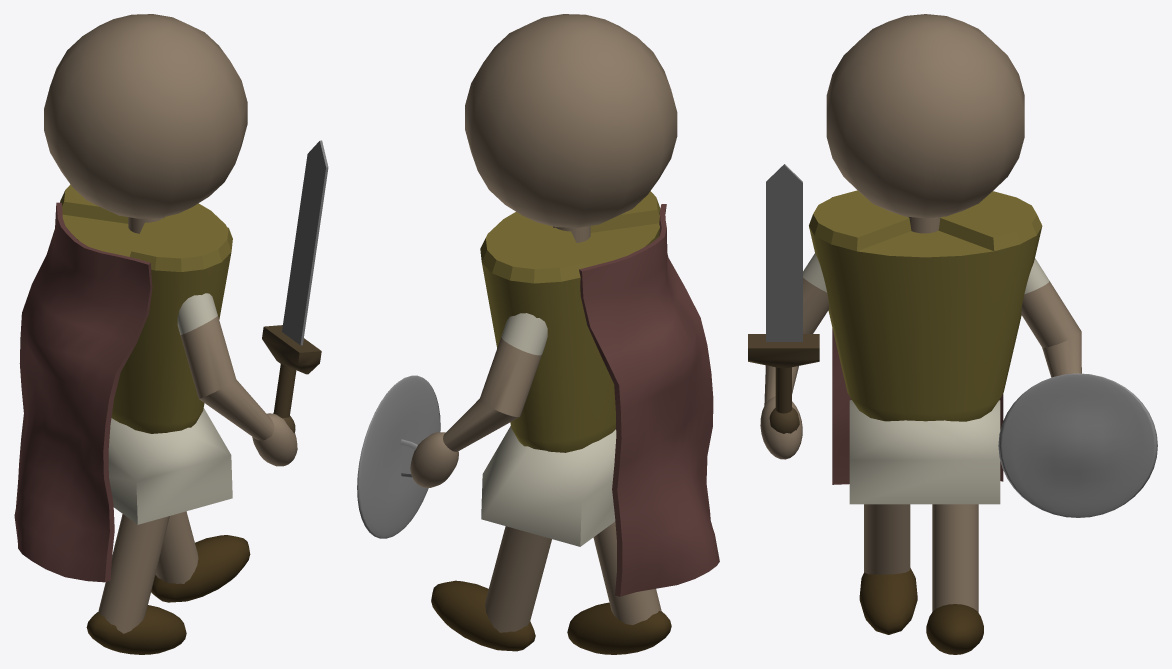
File: character move 2.fbx
The picture shows the model from 3 angles, left to right: view 1: azimuth 30°, elevation 25°; view 2: azimuth 150°, elevation 25°; view 3: azimuth 270°, elevation 25°; orthographic projection. The views are drawn at different scales.
Parts seen in each view (by area): view 1: polySurface10; view 2: polySurface10; view 3: polySurface10.
Boxes of the visible parts, left/top/right/bottom form: polySurface10: left=14, top=14, right=328, bottom=654; polySurface10: left=357, top=14, right=719, bottom=654; polySurface10: left=748, top=14, right=1157, bottom=654.
Bounding box in the file's own units: 2.76 × 6.57 × 4.
